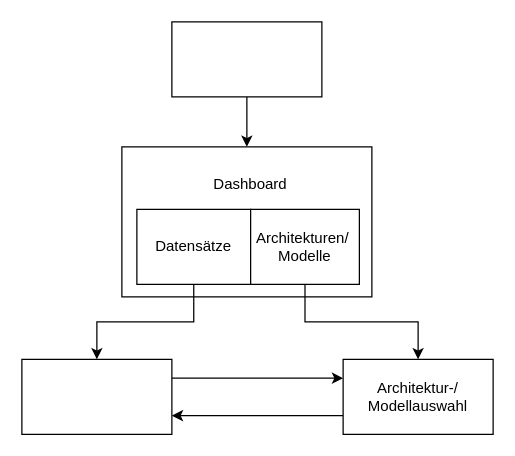
Image size: 515x456. Some labels were removed from this diagram. The centre of each missing label's shape, as x and y in pixels:
"Datensatzverwaltung" belongs at point (96, 396).
"Login" belongs at point (246, 59).
